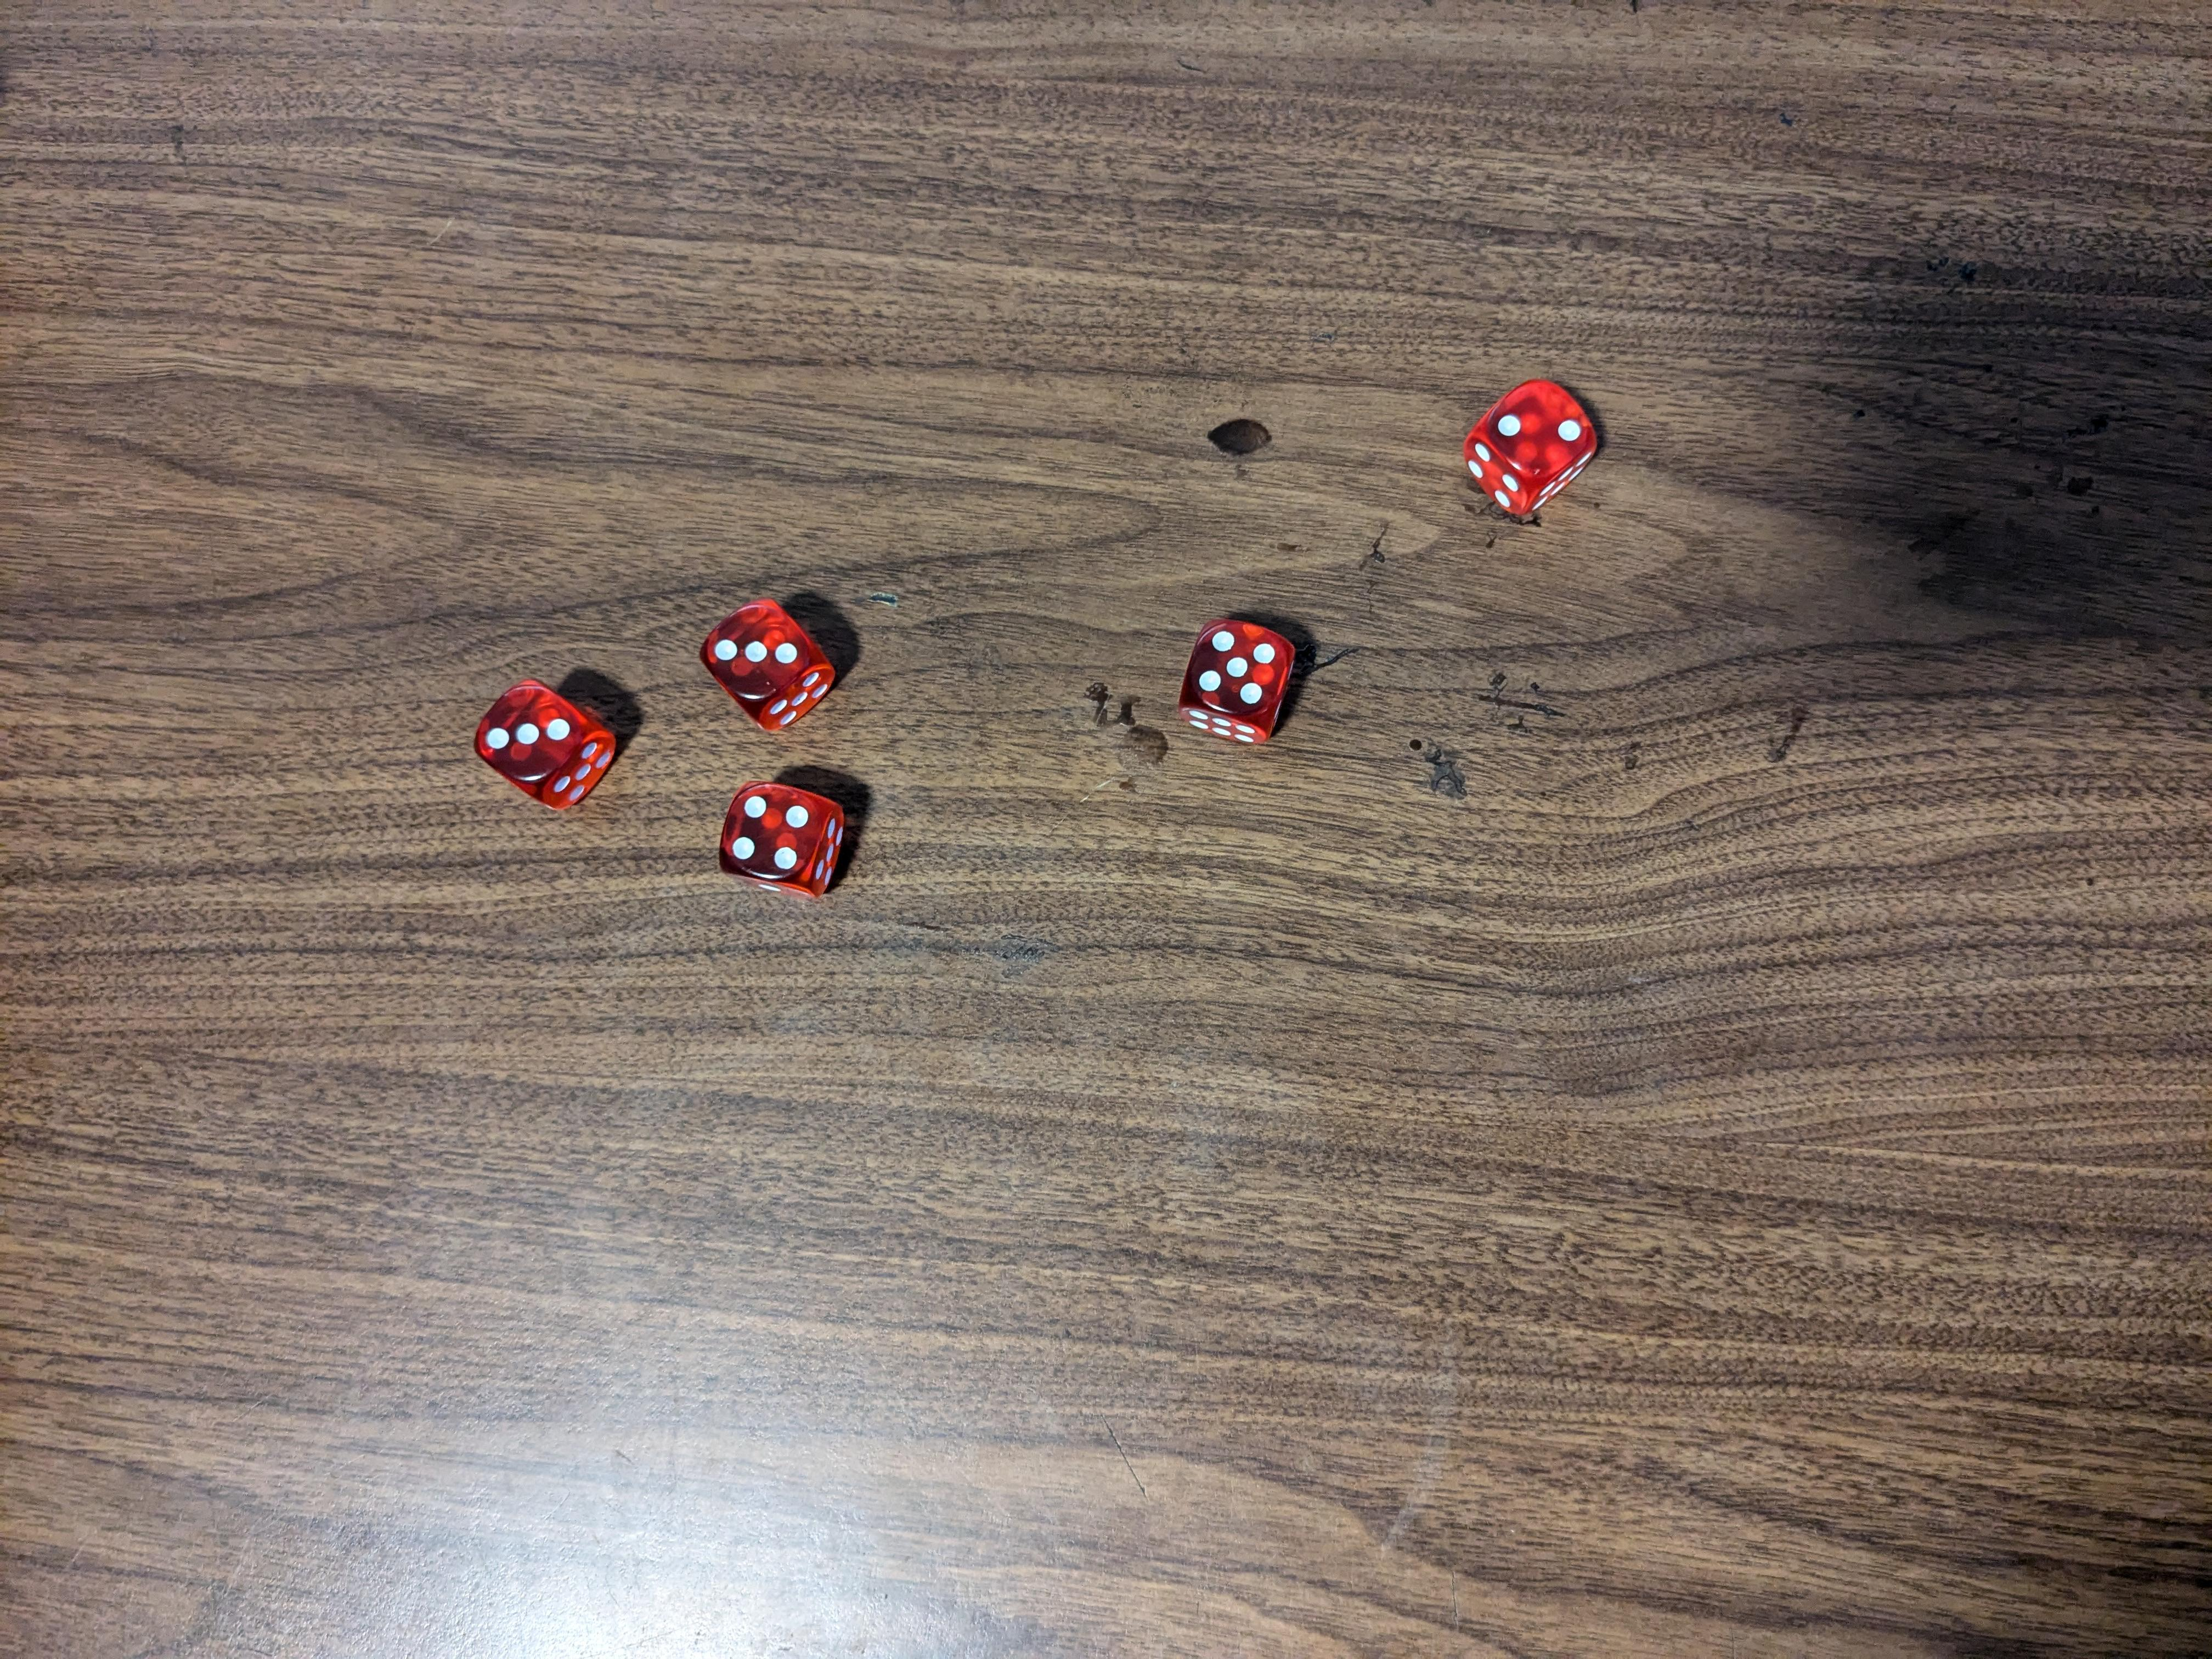five: (1184, 613, 1298, 742)
four: (714, 777, 855, 901)
three: (463, 674, 627, 812), (686, 594, 840, 732)
two: (1461, 371, 1613, 516)
